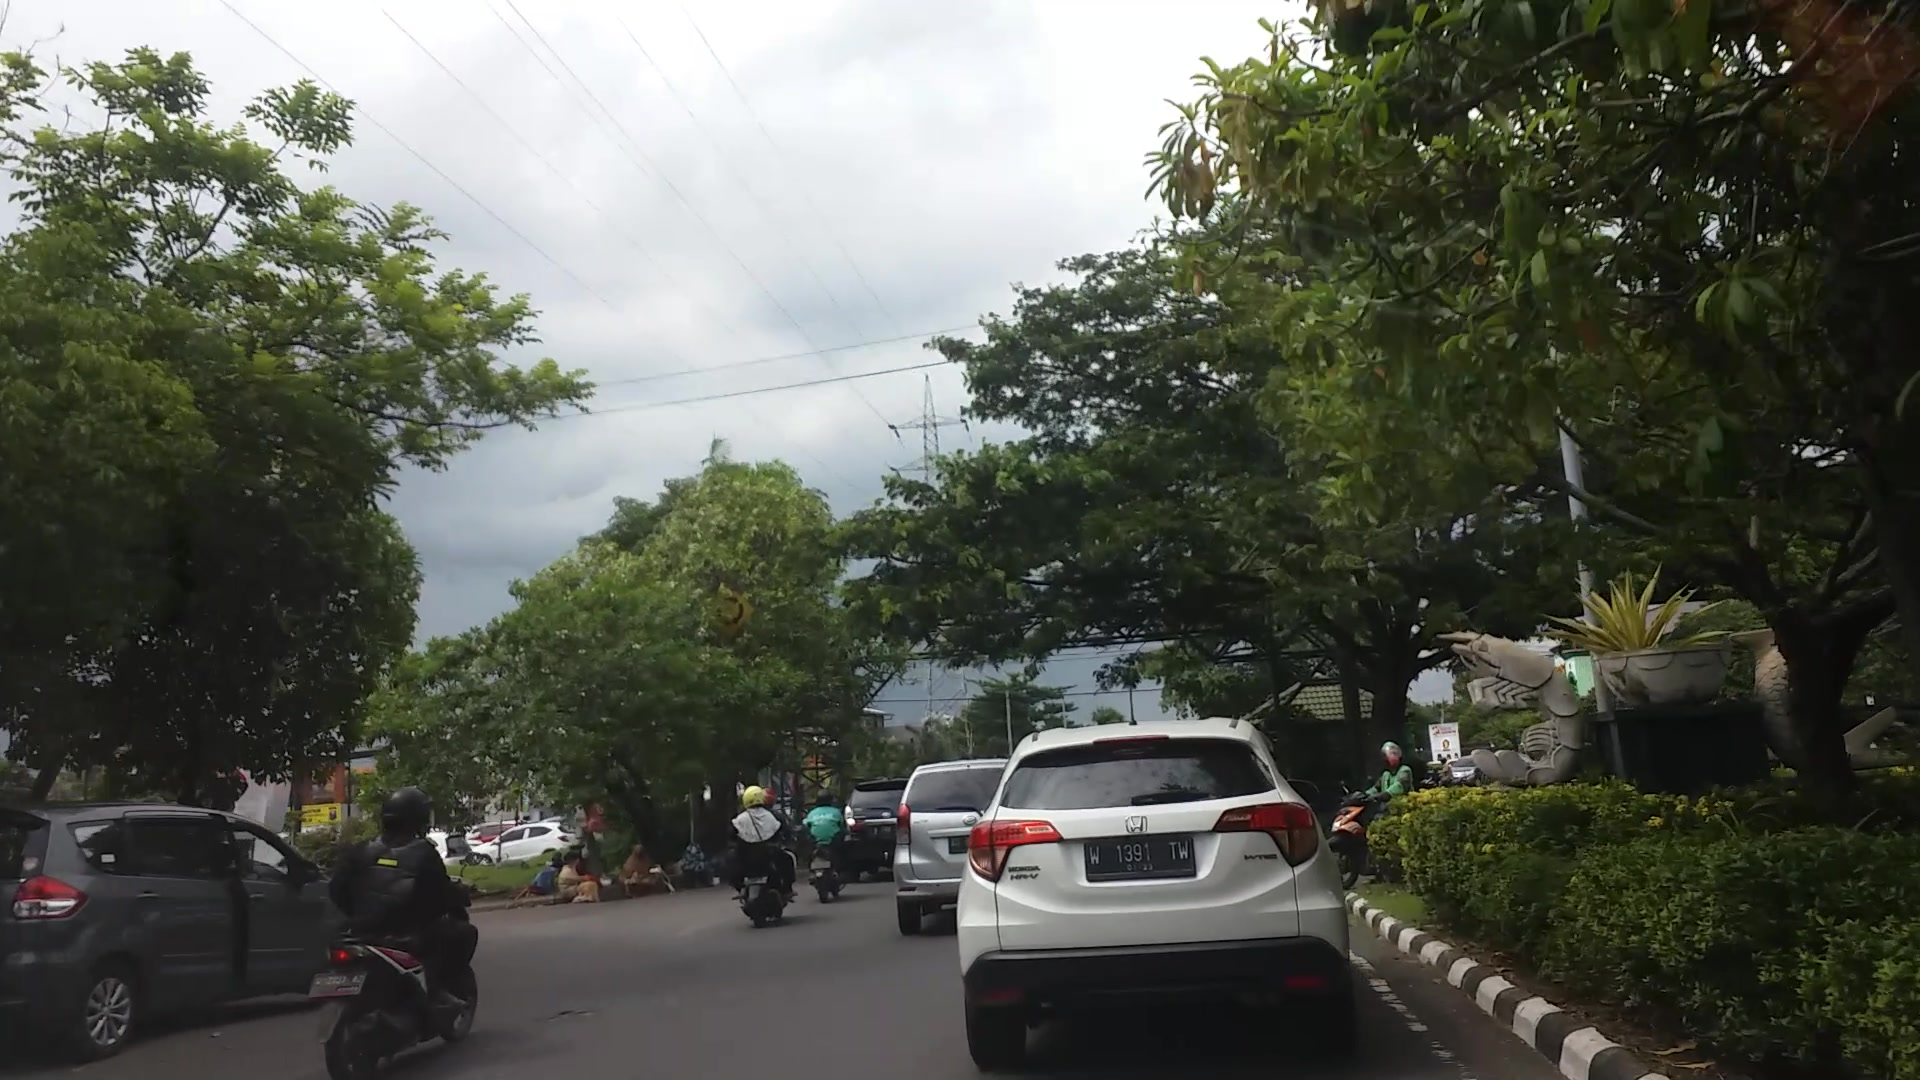plate_positive: (1085, 837, 1195, 877)
